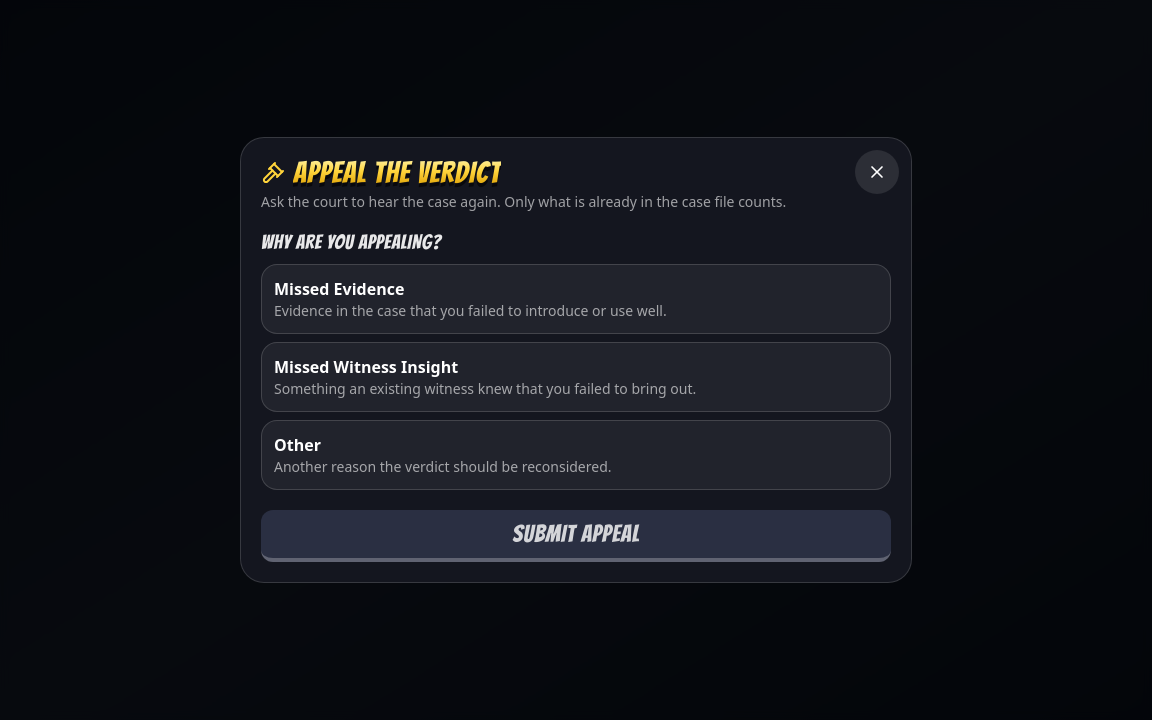
Test case: AppealForm › shows an error and lets the player try again when sending fails
Click the text "Other" at (297, 445), box [274, 434, 321, 456]
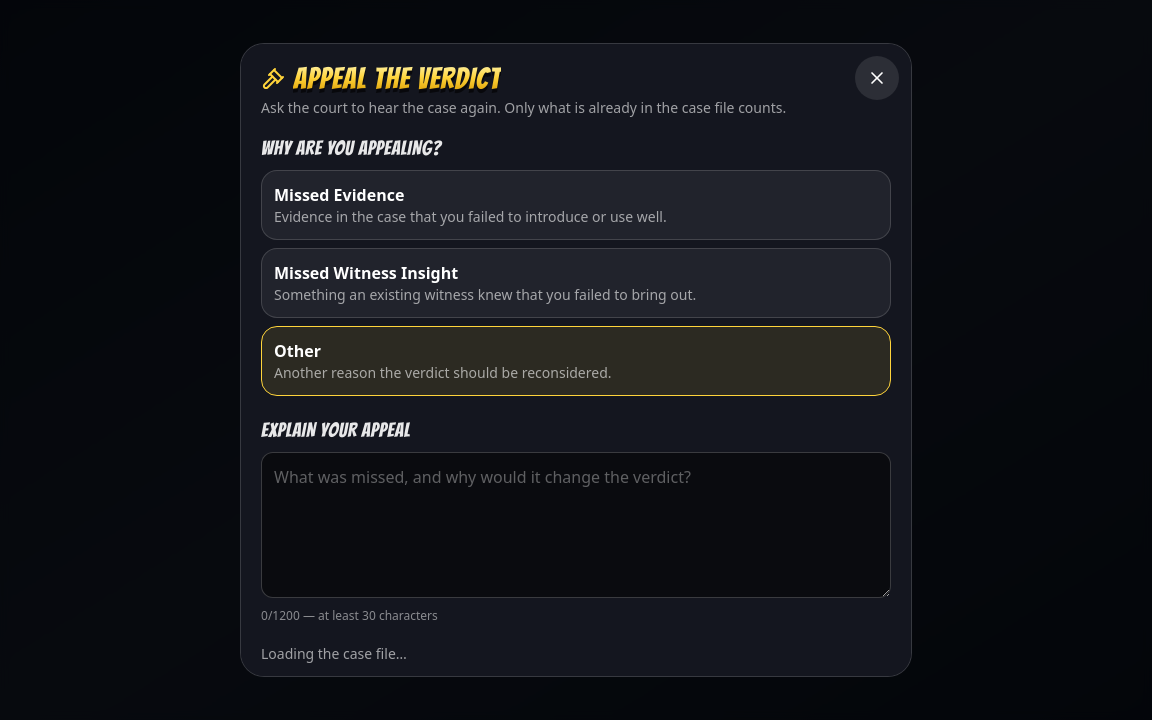
Type "Bill knew the clerk swapped the digits, and nobody asked him about the route sheet." into the text box labelled "EXPLAIN YOUR APPEAL" at (576, 525), box [261, 452, 891, 598]
(page scrolled)
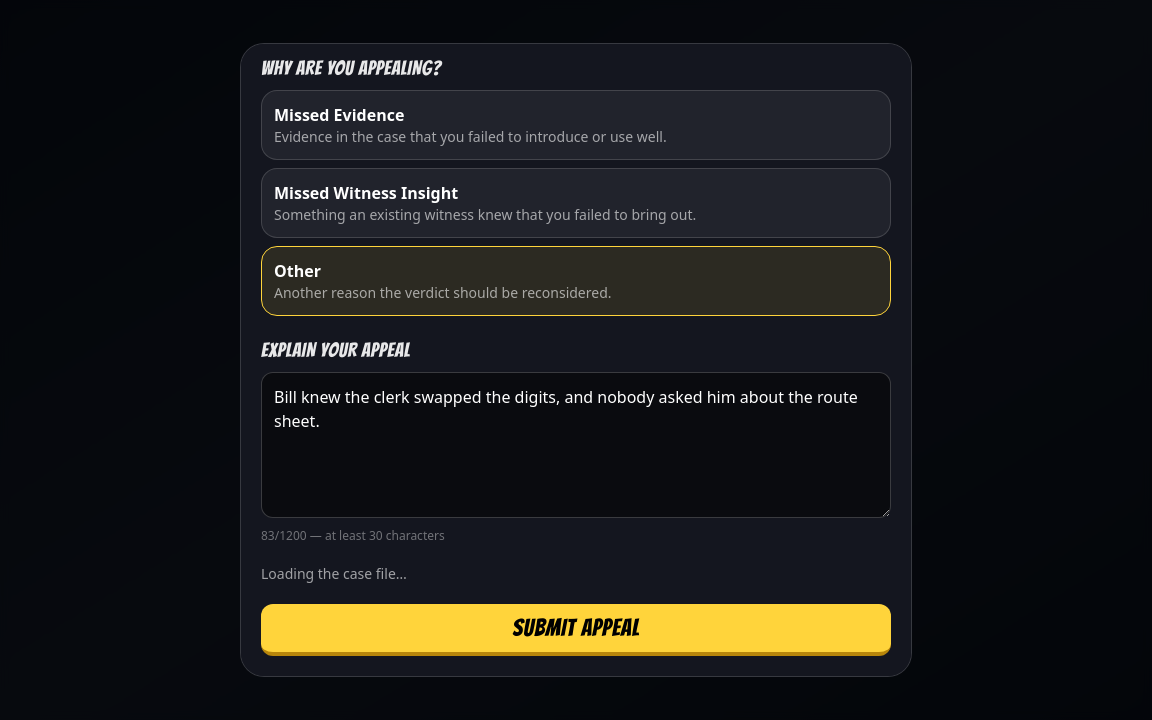
Click the button "SUBMIT APPEAL" at (576, 630), box [261, 604, 891, 656]
(page scrolled)
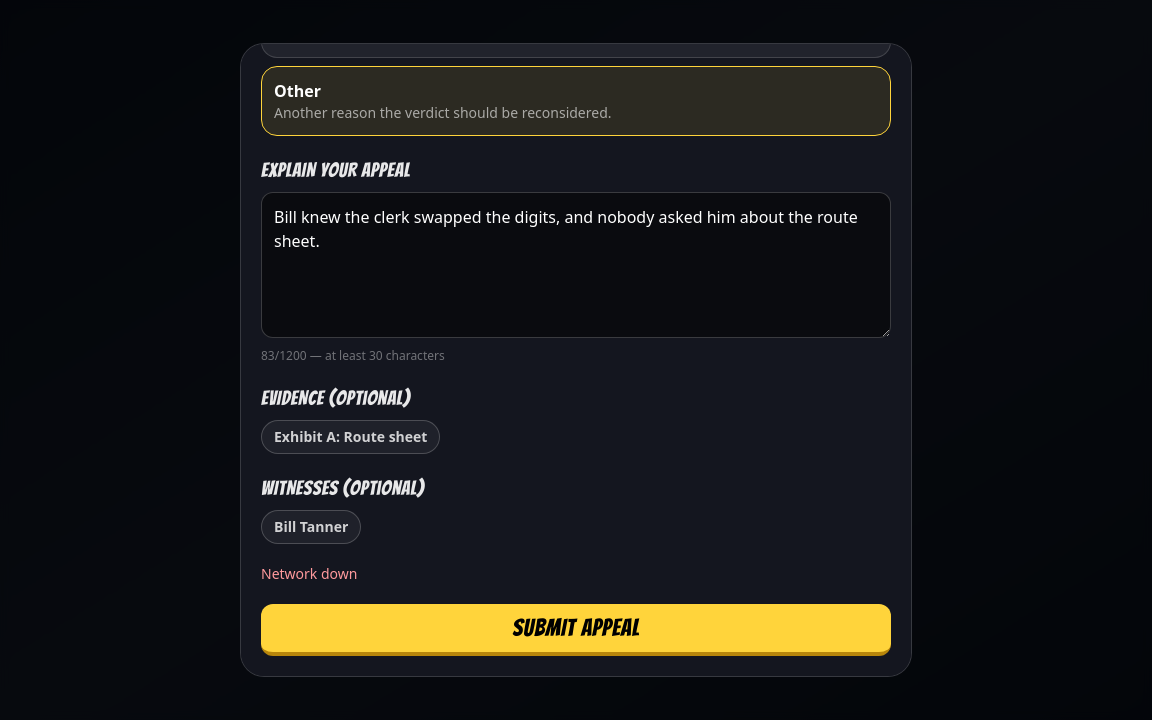
Check: the button "SUBMIT APPEAL" is enabled, box [261, 604, 891, 656]
Check: the text "Network down" is shown, box [261, 564, 357, 583]
